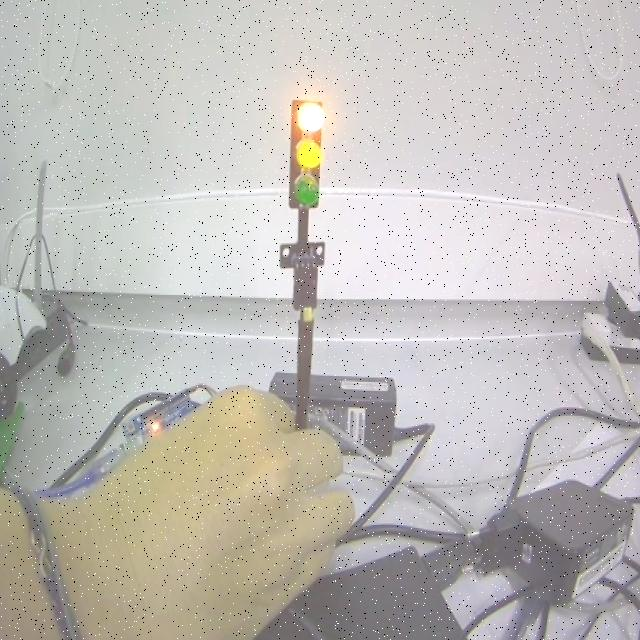Lampu Merah: (288, 96, 325, 211)
